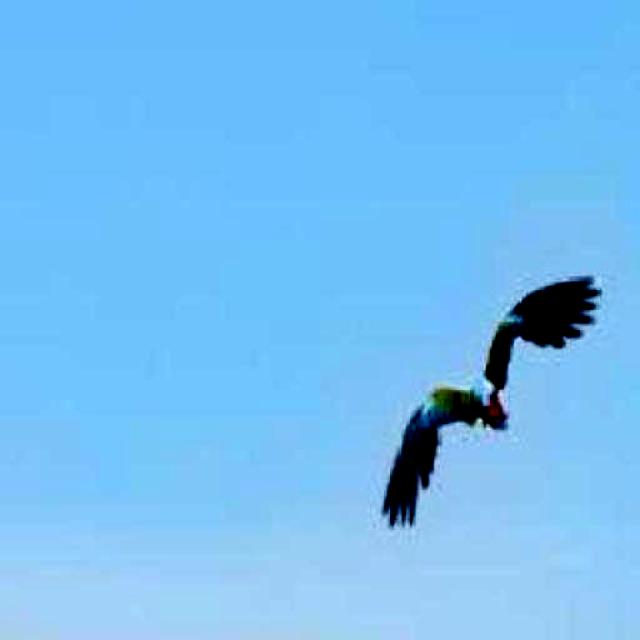airplane: (382, 278, 600, 529)
